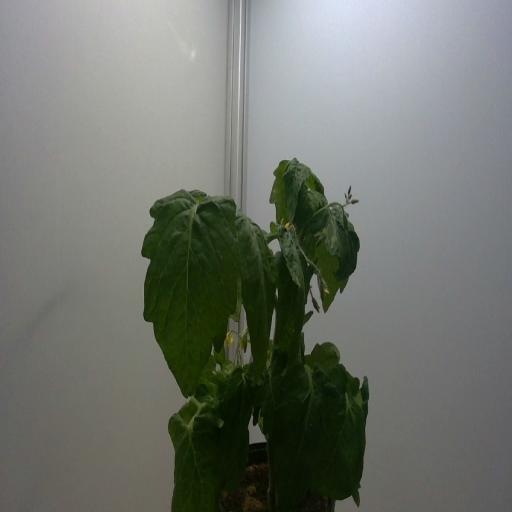Tomato-Leaves-Cupboard-: (130, 186, 242, 417), (249, 352, 346, 512), (233, 200, 275, 394), (268, 215, 308, 392), (315, 387, 367, 506), (163, 413, 224, 512), (321, 205, 364, 288), (314, 228, 348, 316), (264, 160, 292, 246), (284, 154, 316, 226), (309, 333, 340, 368), (308, 189, 332, 214), (350, 478, 367, 508), (212, 337, 226, 370), (355, 374, 370, 403)
